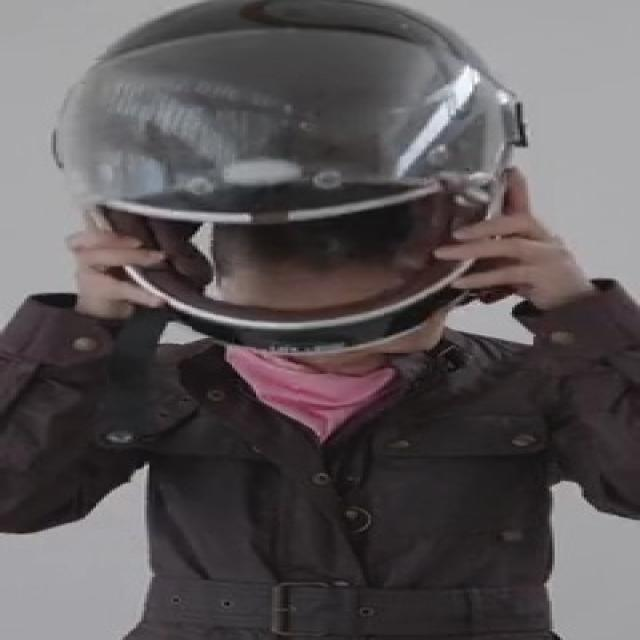Helmet_Wearer: (48, 0, 547, 362)
Person: (22, 0, 640, 640)
